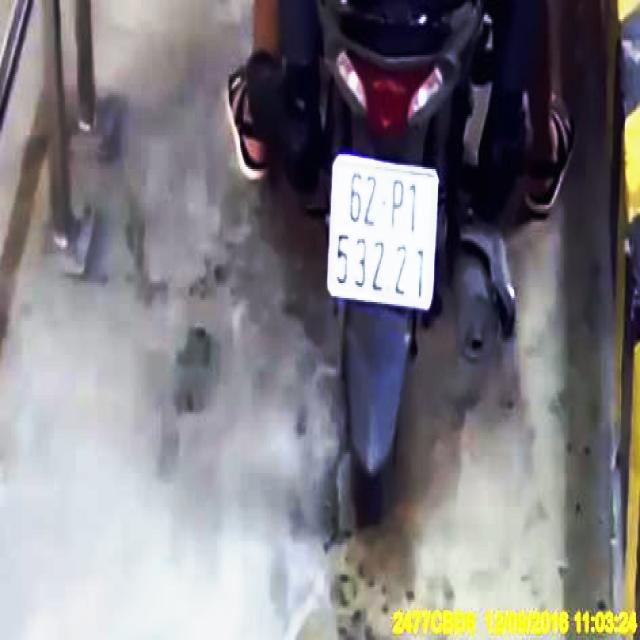license_plate: (329, 159, 437, 307)
